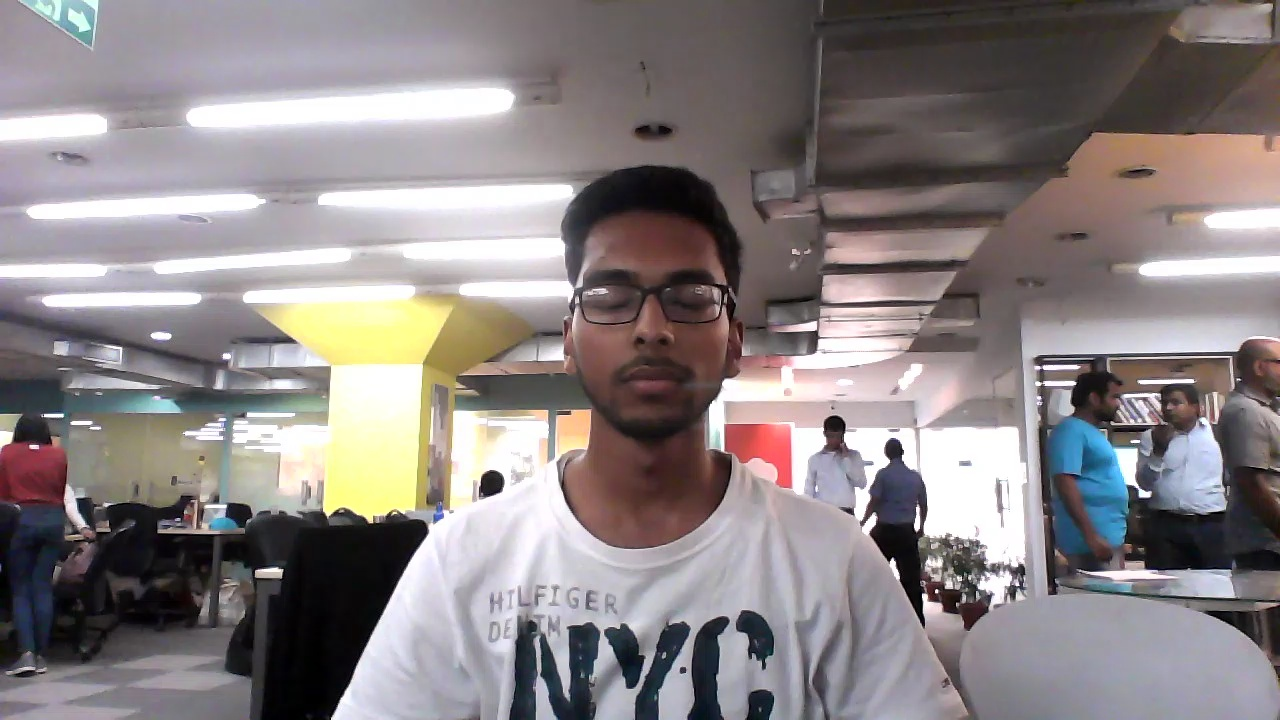closed: (555, 171, 745, 440)
